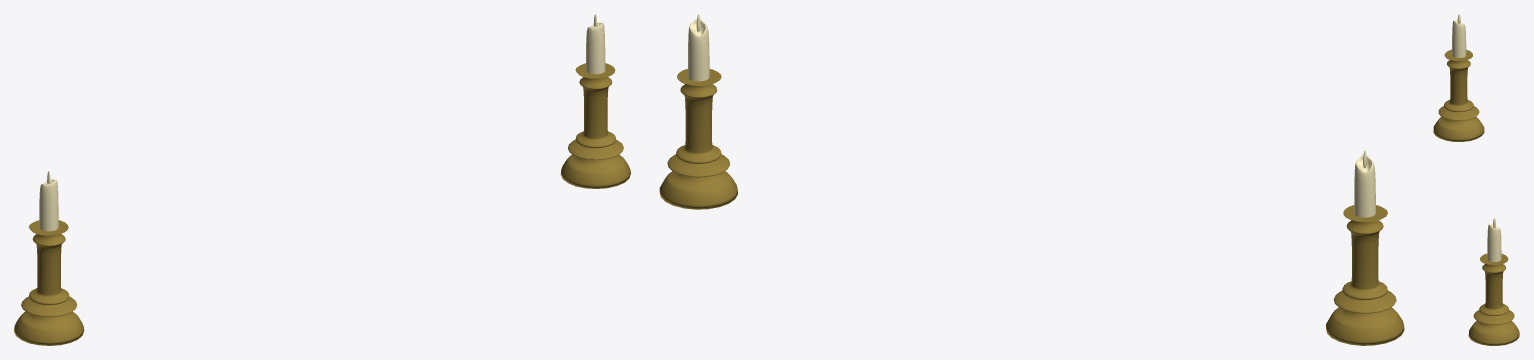
Rendered from Candles.fbx.
3 renders of one model, left to right at view 1: azimuth 30°, elevation 25°; view 2: azimuth 150°, elevation 25°; view 3: azimuth 270°, elevation 25°, orthographic. The views are drawn at different scales.
Visible parts, largest first — view 1: candleHolder (×2), Candle (×2); view 2: candleHolder (×2), Candle (×2); view 3: candleHolder (×2), Candle (×2).
Part boxes in pixels (x1,y1,x2,y2): candleHolder (×2): (14,63,630,345); Candle (×2): (39,22,605,231); candleHolder (×2): (659,68,1404,345); Candle (×2): (688,19,1375,217); candleHolder (×2): (1433,49,1519,345); Candle (×2): (1452,20,1501,261).
Bounding box in the file's own units: 8.09 × 2.01 × 1.31.
